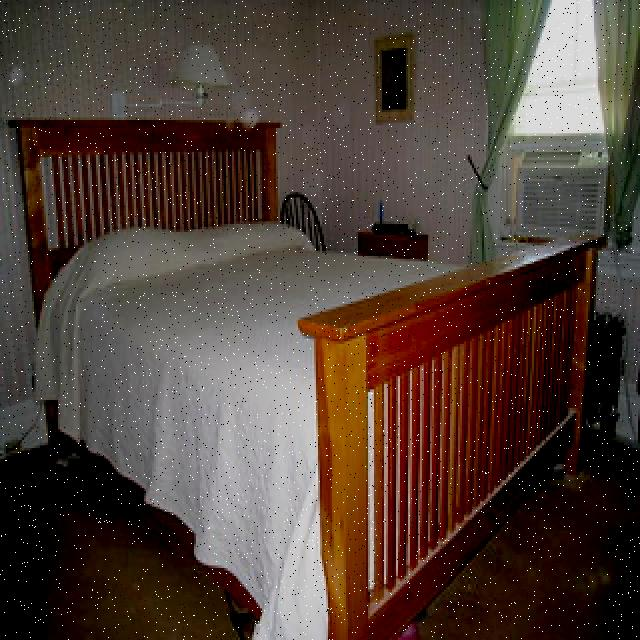bed: (14, 110, 618, 629)
